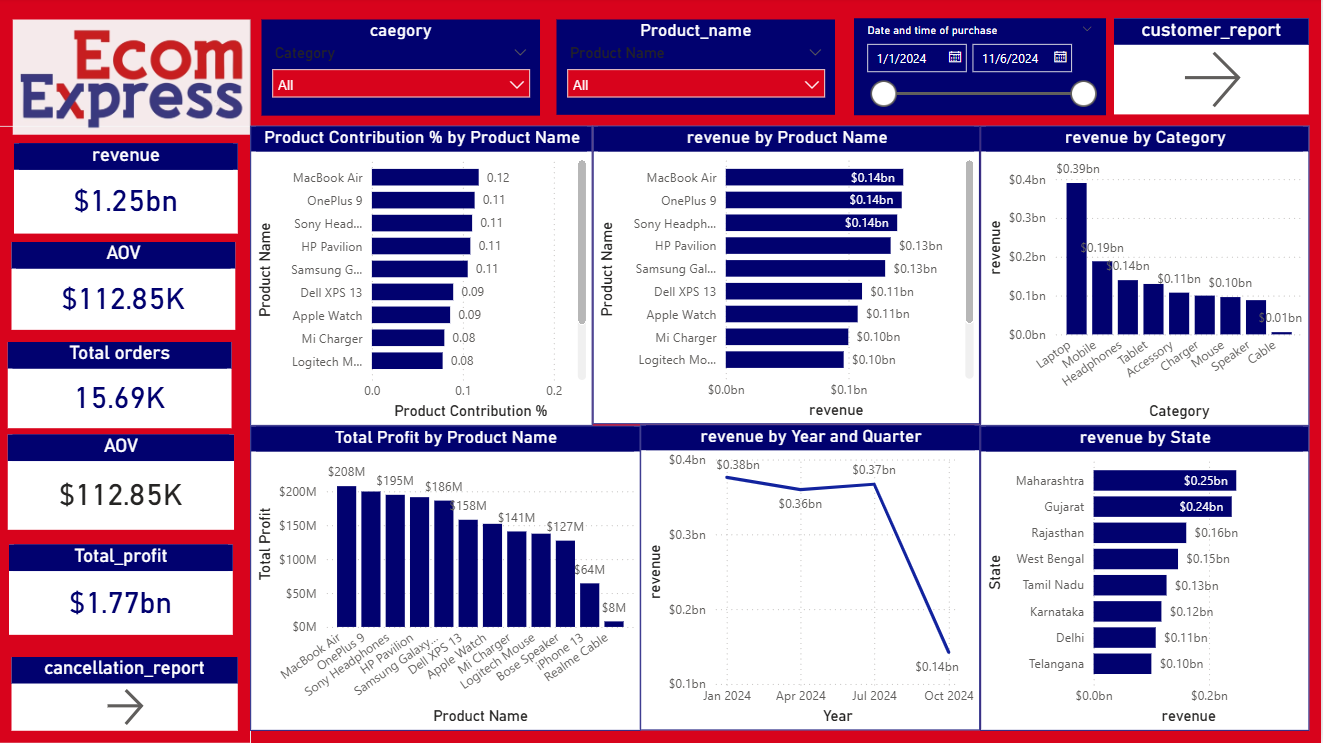

The page's visual inventory and layout, read from the dashboard file:
{"tool":"powerbi","page":{"name":"Page 1","canvas":[1280,720],"ordinal":0},"visuals":[{"type":"shape","box":[0,124.3,247.3,596],"z":0},{"type":"shape","box":[0,1.2,1270.4,123.1],"z":1000},{"type":"image","box":[18.1,22.3,229.6,111.3],"z":2000},{"type":"barChart","fields":{"Y":["Table.revenue"],"Category":["Products.Product Name"]},"box":[577.9,124.3,374,288.3],"z":3000},{"type":"columnChart","fields":{"Category":["Products.Category"],"Y":["Table.revenue"]},"box":[951.9,124.3,317.3,289.5],"z":4000},{"type":"lineChart","fields":{"Category":["Orders.Date and time of purchase.Variation.Date Hierarchy.Year","Orders.Date and time of purchase.Variation.Date Hierarchy.Quarter","Orders.Date and time of purchase.Variation.Date Hierarchy.Month","Orders.Date and time of purchase.Variation.Date Hierarchy.Day"],"Y":["Table.revenue"]},"box":[623.7,412.6,328.2,295.6],"z":5000},{"type":"barChart","fields":{"Y":["Table.revenue"],"Category":["Customers.State"]},"box":[951.9,413.8,317.3,294.4],"z":6000},{"type":"slicer","title":"caegory","fields":{"Values":["Products.Category"]},"box":[258.2,21.7,269,92.9],"z":7000},{"type":"card","title":"revenue","fields":{"Values":["Table.revenue"]},"box":[19.3,141.2,216,86.9],"z":8000},{"type":"card","title":"AOV","fields":{"Values":["Table.AOV"]},"box":[16.9,236.5,216,84.5],"z":9000},{"type":"card","title":"Total orders   ","fields":{"Values":["CountNonNull(Orders.OrderID)"]},"box":[13.3,333,216,83.2],"z":10000},{"type":"slicer","fields":{"Values":["Orders.Date and time of purchase"]},"box":[830,20.5,242.5,92.9],"z":11000},{"type":"barChart","fields":{"Category":["Products.Product Name"],"Y":["Table.Product Contribution %"]},"box":[247.3,124.3,330.6,289.5],"z":12000},{"type":"actionButton","title":"customer_report","box":[1081,20.5,188.2,92.9],"z":13000},{"type":"actionButton","title":"cancellation_report","box":[16.9,637,218.4,71.2],"z":14000},{"type":"card","title":"AOV","fields":{"Values":["Table.AOV"]},"box":[13.3,422.3,218.4,91.7],"z":15000},{"type":"columnChart","fields":{"Category":["Products.Product Name"],"Y":["Table.Total Profit"]},"box":[247.3,413.8,376.4,294.4],"z":16000},{"type":"card","title":"Total_profit","fields":{"Values":["Table.Total Profit"]},"box":[14.5,528.4,216,86.9],"z":17000},{"type":"actionButton","box":[0,0,100,40],"z":18000},{"type":"slicer","title":"Product_name","fields":{"Values":["Products.Product Name"]},"box":[542.9,21.7,269,91.7],"z":19000}]}

Visuals, with their boxes in screenshot pixels (x1, y1, x2, y2), scaled from the page's 1280x720 canvas onto the 1323x743 screenshot:
shape: l=0, t=128, r=256, b=742
shape: l=0, t=1, r=1313, b=128
image: l=19, t=23, r=256, b=138
barChart - Table.revenue x Products.Product Name: l=597, t=128, r=984, b=426
columnChart - Products.Category x Table.revenue: l=984, t=128, r=1312, b=427
lineChart - Orders.Date and time of purchase.Variation.Date Hierarchy.Year x Orders.Date and time of purchase.Variation.Date Hierarchy.Quarter: l=645, t=426, r=984, b=731
barChart - Table.revenue x Customers.State: l=984, t=427, r=1312, b=731
"caegory" slicer: l=267, t=22, r=545, b=118
"revenue" card: l=20, t=146, r=243, b=235
"AOV" card: l=17, t=244, r=241, b=331
"Total orders   " card: l=14, t=344, r=237, b=429
slicer - Orders.Date and time of purchase: l=858, t=21, r=1109, b=117
barChart - Products.Product Name x Table.Product Contribution %: l=256, t=128, r=597, b=427
"customer_report" actionButton: l=1117, t=21, r=1312, b=117
"cancellation_report" actionButton: l=17, t=657, r=243, b=731
"AOV" card: l=14, t=436, r=239, b=530
columnChart - Products.Product Name x Table.Total Profit: l=256, t=427, r=645, b=731
"Total_profit" card: l=15, t=545, r=238, b=635
actionButton: l=0, t=0, r=103, b=41
"Product_name" slicer: l=561, t=22, r=839, b=117
